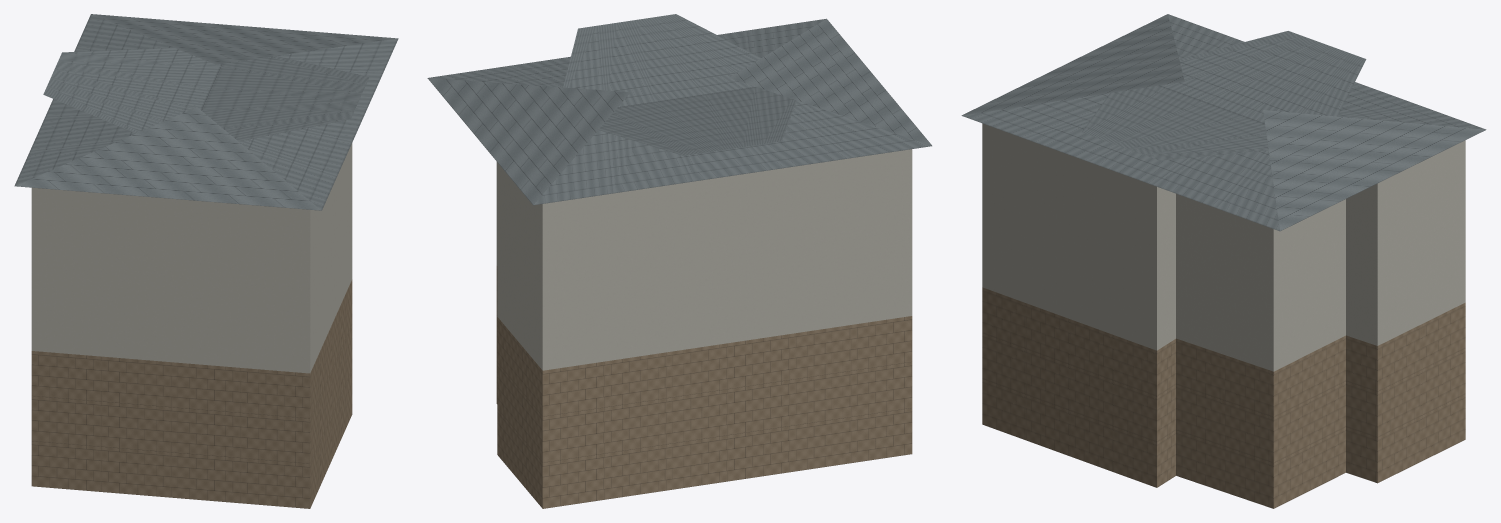
Rendered from bld_c34_-28_457.gltf.
3 renders of one model, left to right at view 1: azimuth 30°, elevation 25°; view 2: azimuth 150°, elevation 25°; view 3: azimuth 270°, elevation 25°, orthographic. The views are drawn at different scales.
Visible parts, largest first — view 1: bld_c34_-28_457; view 2: bld_c34_-28_457; view 3: bld_c34_-28_457.
Boxes of the visible parts, x1,y1,x2,y2 form: bld_c34_-28_457: (14, 14, 398, 508); bld_c34_-28_457: (427, 14, 931, 508); bld_c34_-28_457: (961, 14, 1486, 508).
Size of the model in its own units: 17.32 by 12.5 by 17.7.
Materials: 3 (3 with a texture image).
